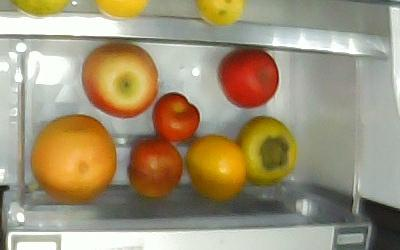apple: (81, 41, 159, 118), (217, 47, 279, 107)
grapefruit: (29, 112, 117, 204)
persimmon: (234, 114, 296, 186), (185, 133, 246, 202)
prune: (127, 134, 183, 198), (151, 91, 200, 143)
